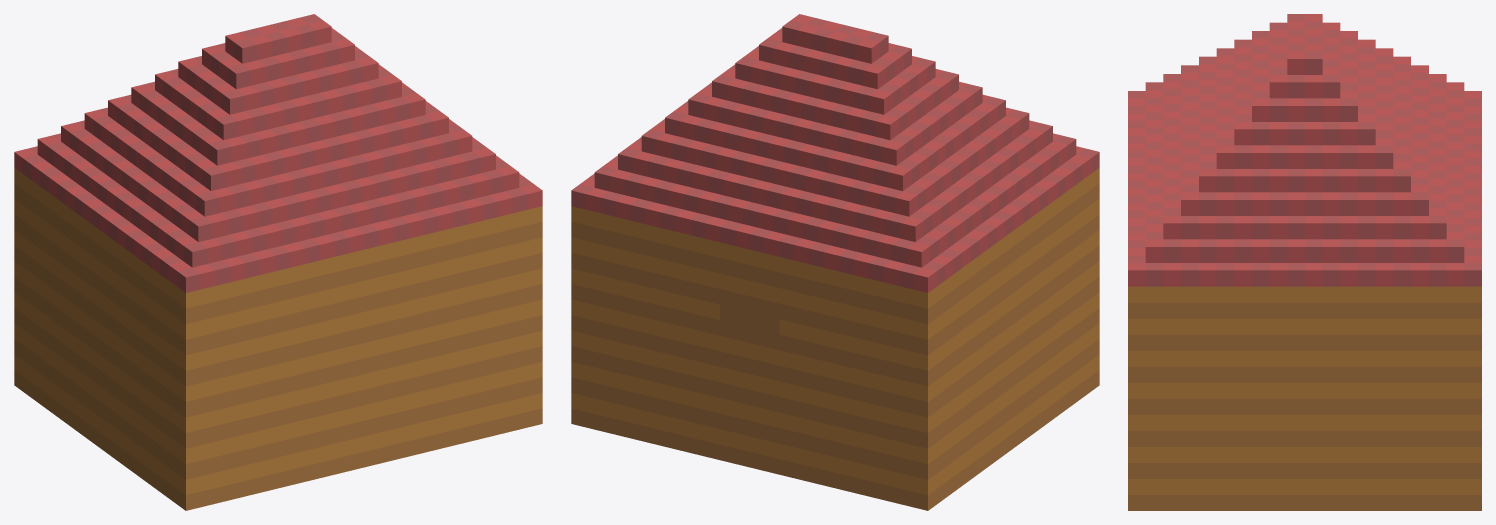
File: cabin_small.glb
3 views of the same model, side by side, from view 1: azimuth 30°, elevation 25°; view 2: azimuth 150°, elevation 25°; view 3: azimuth 270°, elevation 25° (orthographic). The views are drawn at different scales.
Bounding box in the file's own units: 2.4 × 2.4 × 2.
